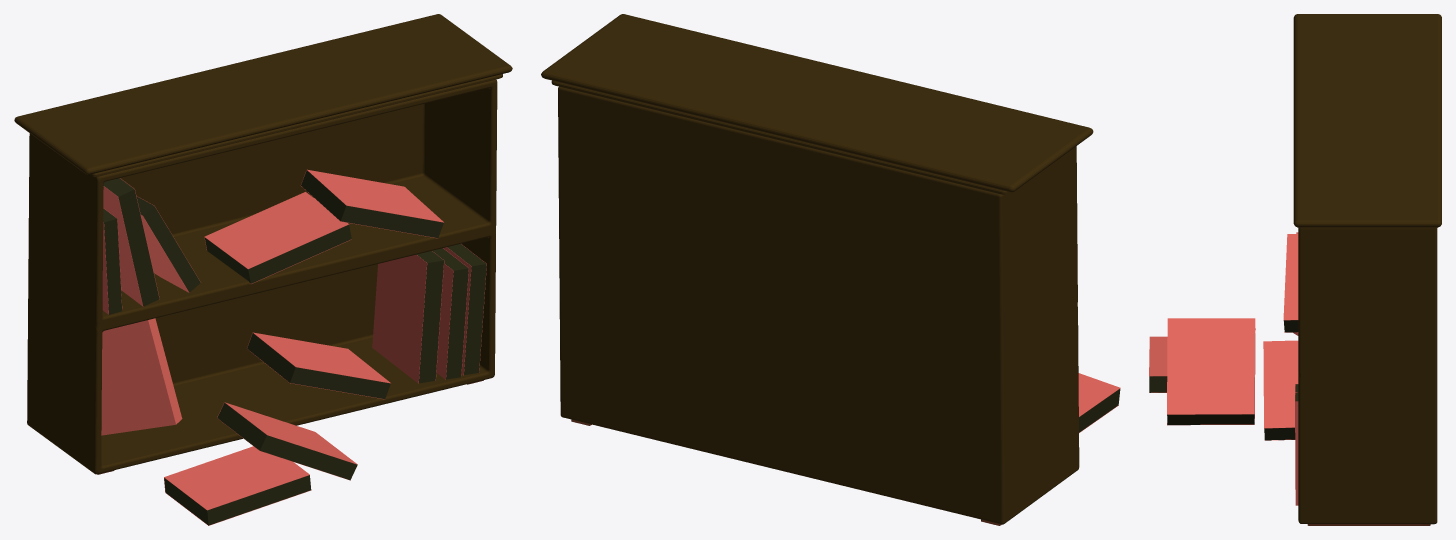
Rendered from bookshelf_missed.glb.
3 renders of one model, left to right at view 1: azimuth 30°, elevation 25°; view 2: azimuth 150°, elevation 25°; view 3: azimuth 270°, elevation 25°, orthographic. The views are drawn at different scales.
Visible parts, largest first — view 1: bookshelf_missed; view 2: bookshelf_missed; view 3: bookshelf_missed.
Boxes of the visible parts, <box> form: bookshelf_missed: <box>14,14,512,525</box>; bookshelf_missed: <box>541,14,1120,525</box>; bookshelf_missed: <box>1149,14,1441,525</box>.
Size of the model in its own units: 2.26 by 1.6 by 1.34.
